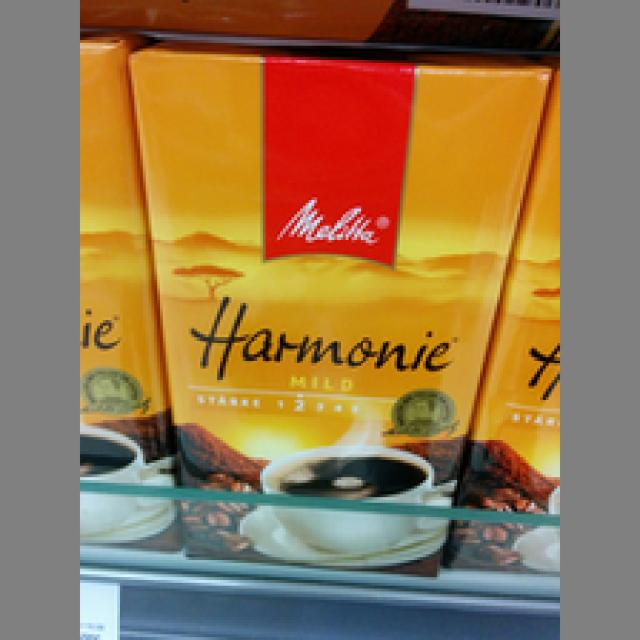groceries: (123, 29, 557, 574)
